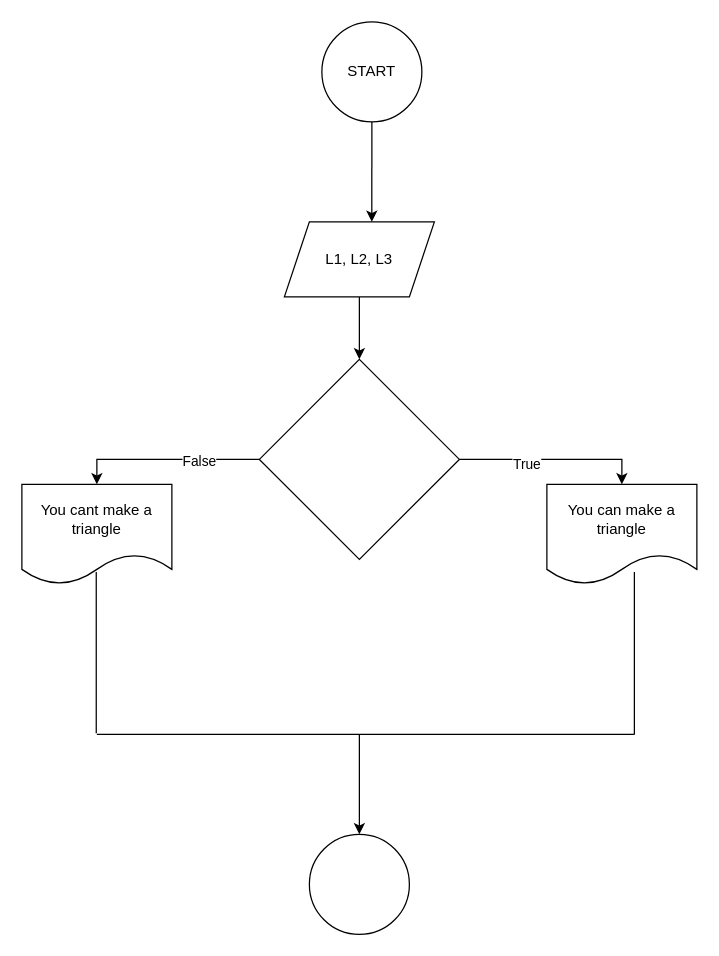
Some shapes in this 719 by 956 pixel diagram are drawn without their labels. Each missing label, with the centre of its shape:
"END" goes at (x=358, y=883).
"L1+L2 >= L3 && L1+L3 >= L2 && L2+L3 >= L1" goes at (x=358, y=458).
